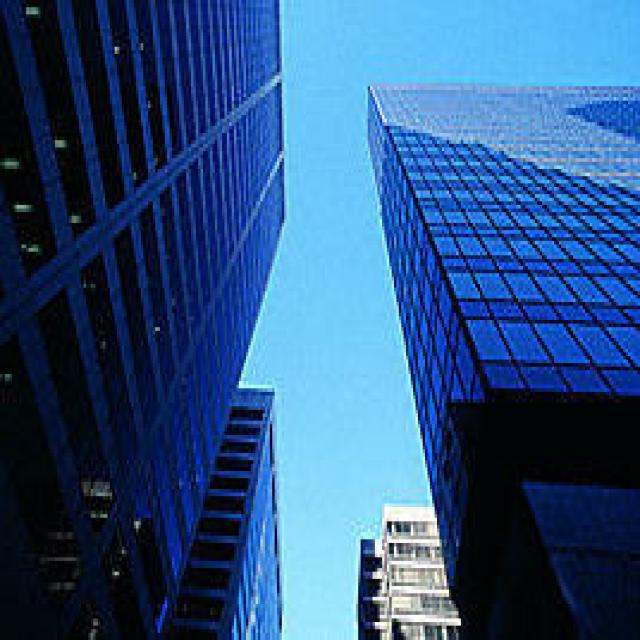building: (0, 0, 289, 640), (365, 79, 640, 637), (149, 382, 290, 640), (358, 502, 463, 640)
